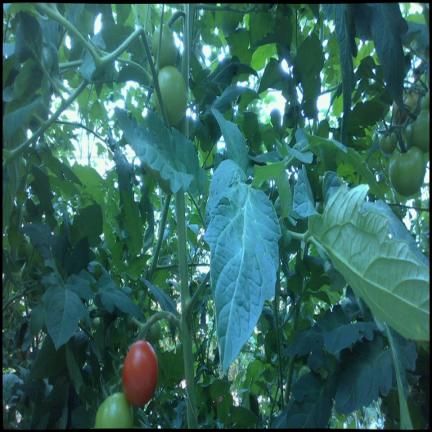6kp_peduncle: (151, 288, 193, 353), (167, 3, 195, 43)
6kp_petiole: (180, 274, 208, 335), (147, 245, 167, 282)
MainStem: (176, 188, 198, 429), (181, 3, 194, 92)
tomato: (122, 340, 158, 406), (154, 66, 187, 126), (389, 146, 426, 196), (94, 393, 133, 428), (392, 92, 418, 124), (411, 110, 429, 153), (379, 132, 397, 154)
